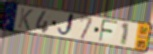1: (119, 22, 131, 46)
4: (35, 10, 50, 34)
7: (78, 14, 94, 41)
F: (98, 18, 119, 44)
J: (57, 13, 76, 38)
K: (17, 7, 35, 32)
